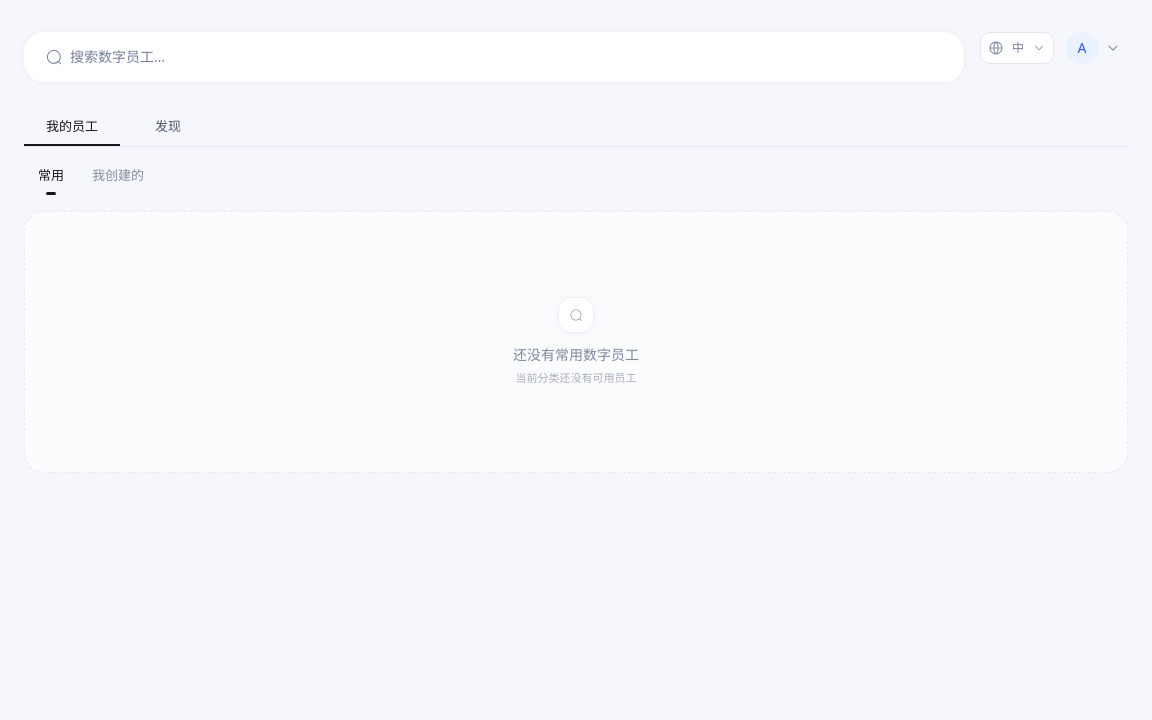
Test case: filters by specialty and resets an invalid specialty when department changes
The image size is (1152, 720).
Click the tab "发现" at x=168, y=128, box [120, 110, 216, 146]
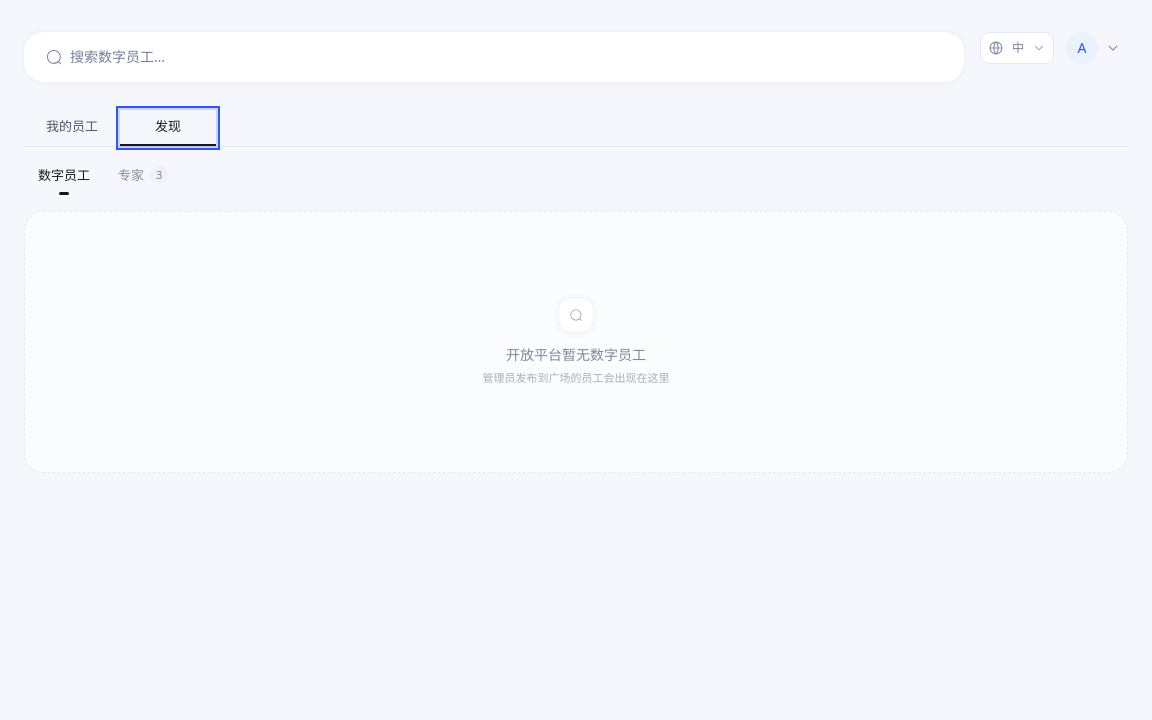
Click the tab "专家 3" at x=143, y=174, box [104, 158, 182, 190]
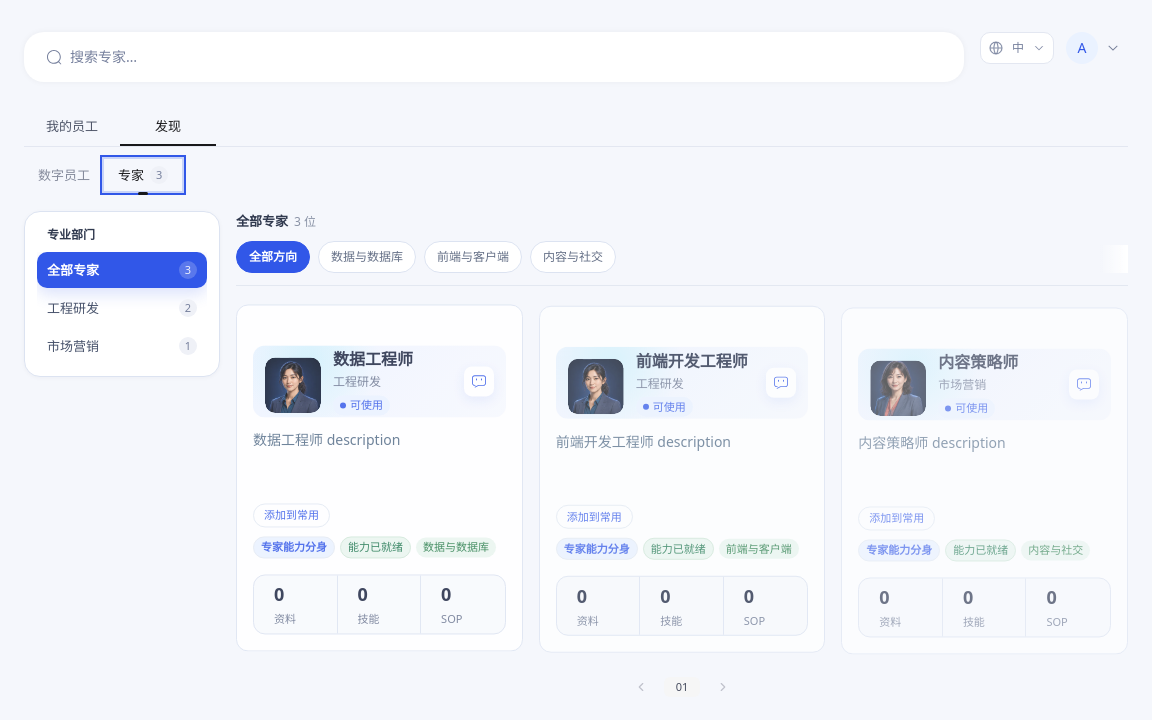
Expected: the text "数据工程师" is shown, [333, 348, 413, 370]
Click the button with aria-label "工程研发，2 位" at x=122, y=308, box [37, 290, 207, 326]
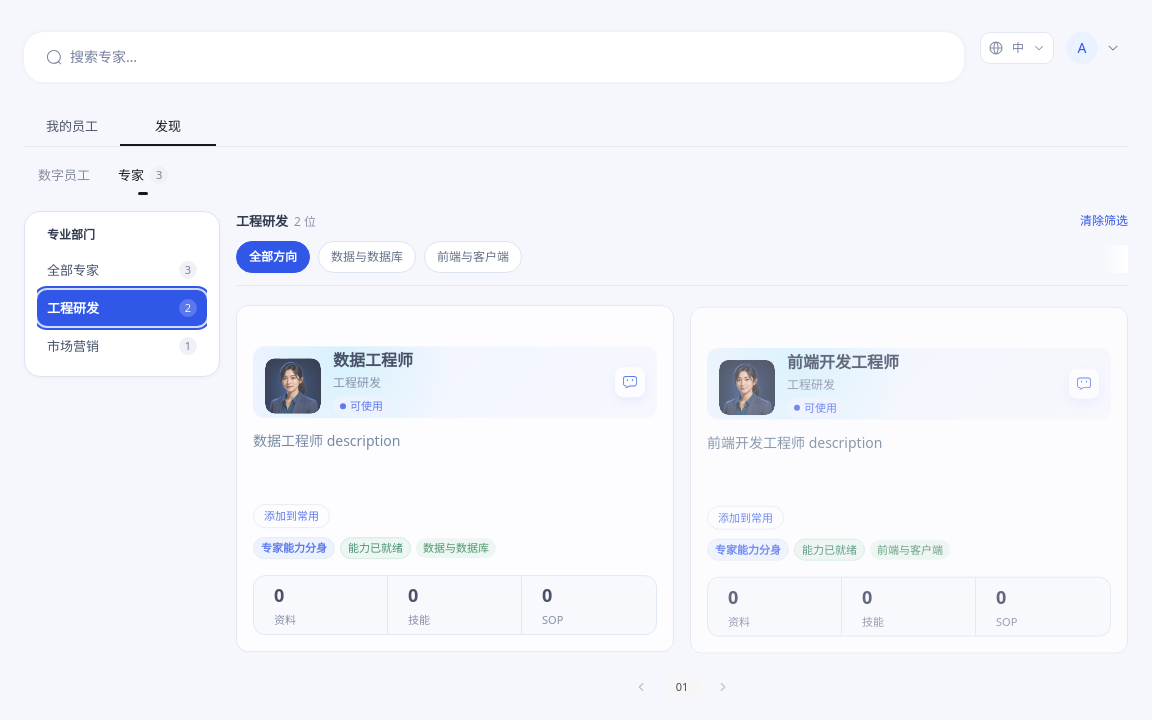
Click the button with aria-label "数据与数据库，1 位" at x=367, y=256, box [318, 240, 416, 272]
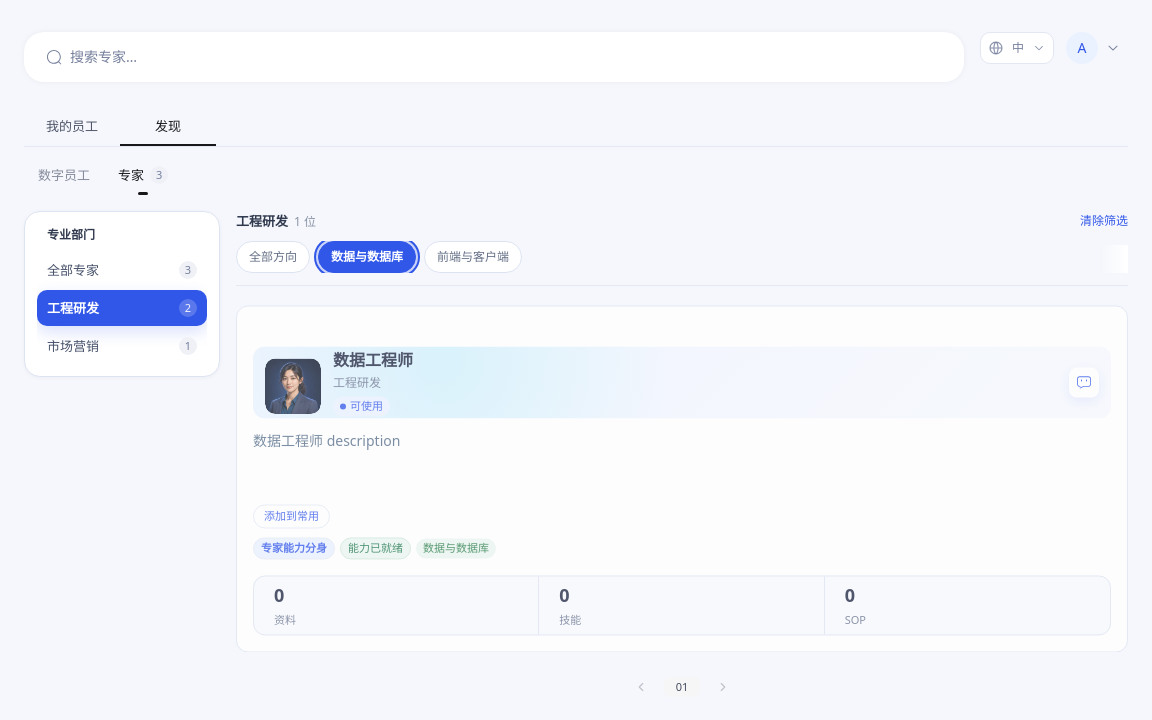
Expected: the button "内容策略师" is not shown
Expected: the text "数据工程师" is shown, [333, 349, 413, 371]
Expected: the button "前端开发工程师" is gone
Click the button with aria-label "市场营销，1 位" at x=122, y=346, box [37, 328, 207, 364]
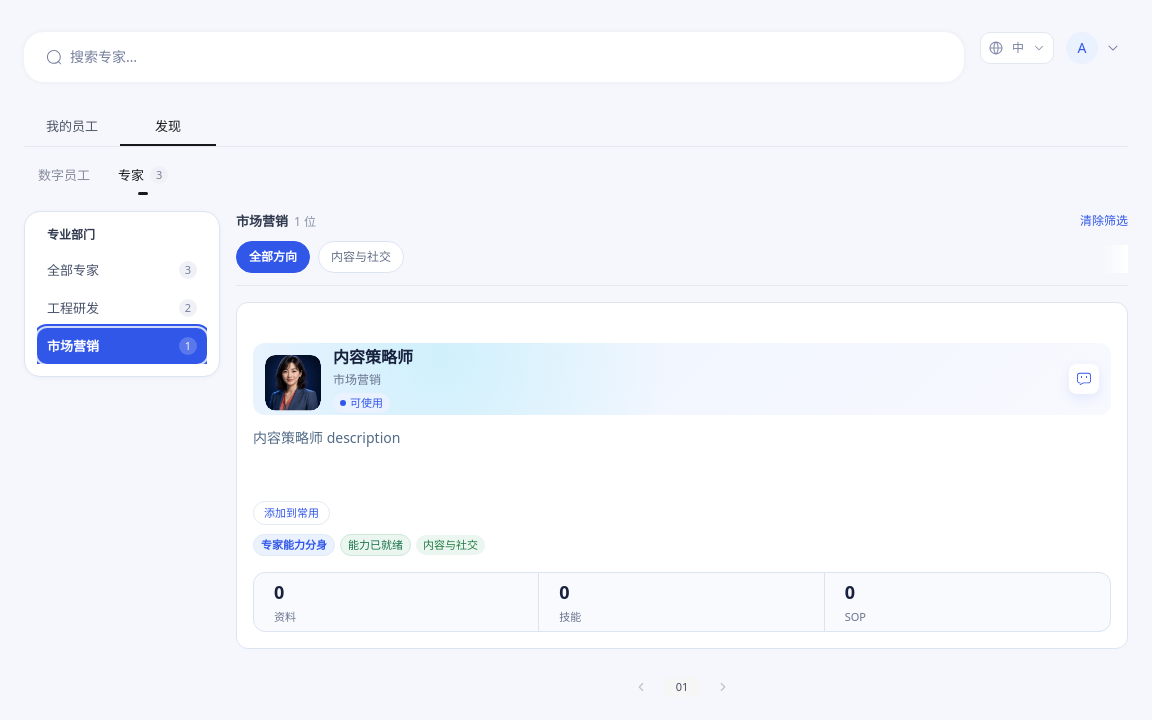
Expected: the text "内容策略师" is shown, [333, 346, 413, 368]
